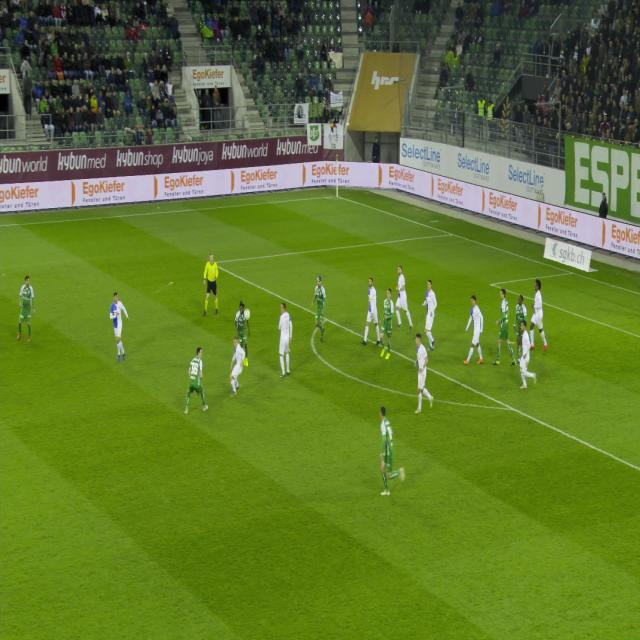Ball: (243, 301, 251, 325)
Player: (367, 397, 410, 505), (184, 339, 218, 430), (461, 292, 490, 383), (105, 282, 134, 370), (14, 261, 39, 358), (409, 328, 434, 417), (490, 284, 516, 368), (275, 294, 295, 387), (378, 286, 400, 364), (530, 272, 552, 350), (362, 273, 384, 350), (308, 275, 332, 345), (422, 274, 443, 352), (228, 334, 250, 408), (518, 314, 538, 390), (395, 264, 416, 336), (514, 282, 528, 332), (236, 300, 252, 337)
Referee: (199, 245, 226, 324)
